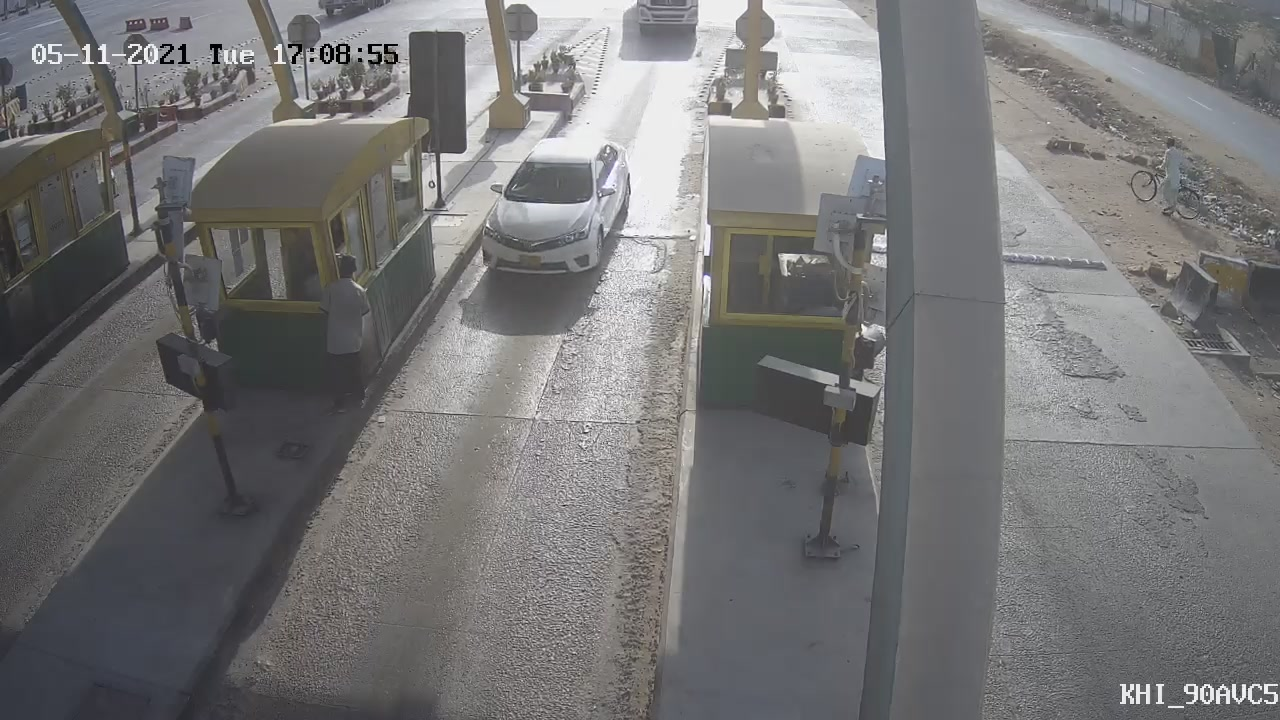F1: (463, 120, 650, 296)
